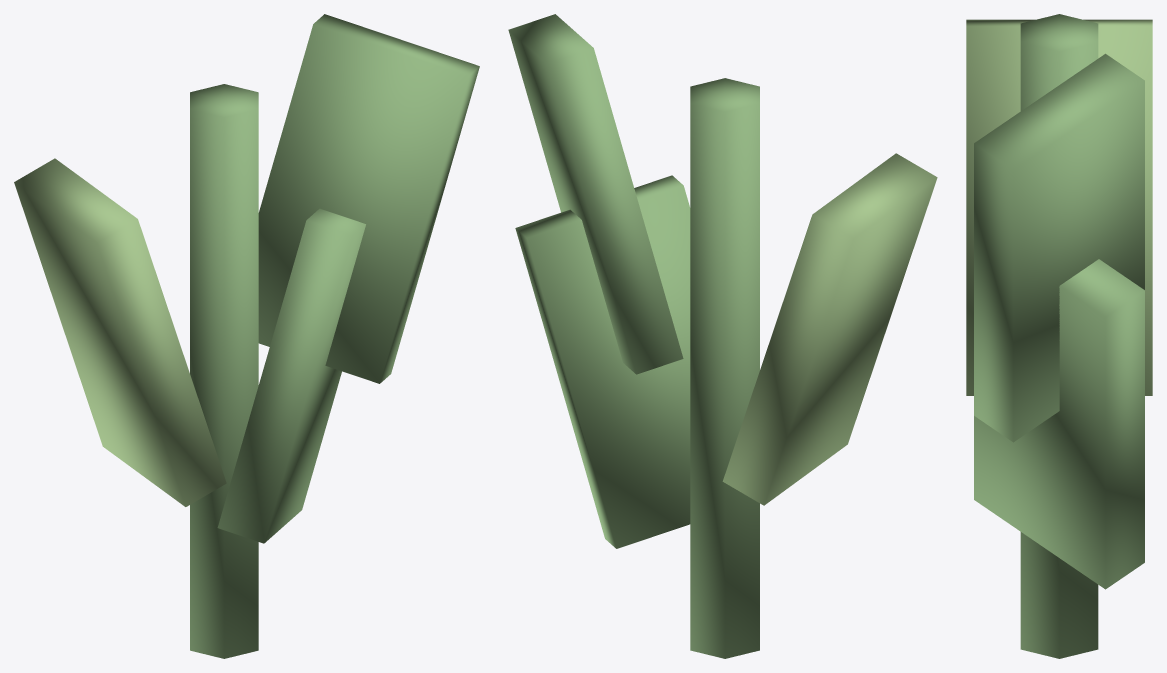
File: plant_tomato_seedling.glb
3 views of the same model, side by side, from view 1: azimuth 30°, elevation 25°; view 2: azimuth 150°, elevation 25°; view 3: azimuth 270°, elevation 25° (orthographic). The views are drawn at different scales.
Visible parts, largest first — view 1: leaf2, leaf1, stem, leaf0; view 2: stem, leaf0, leaf1, leaf2; view 3: leaf2, leaf0, leaf1, stem.
Part boxes in pixels (left/top/right/bottom): leaf2: left=258, top=14, right=479, bottom=383; leaf1: left=14, top=158, right=226, bottom=506; stem: left=190, top=84, right=258, bottom=658; leaf0: left=217, top=208, right=365, bottom=543; stem: left=690, top=78, right=759, bottom=658; leaf0: left=515, top=175, right=690, bottom=548; leaf1: left=722, top=153, right=937, bottom=505; leaf2: left=508, top=14, right=683, bottom=374; leaf2: left=974, top=53, right=1144, bottom=442; leaf0: left=974, top=259, right=1144, bottom=589; leaf1: left=966, top=19, right=1152, bottom=395; stem: left=1020, top=14, right=1098, bottom=658.
Bounding box in the file's own units: 0.1405 × 0.1916 × 0.05.
